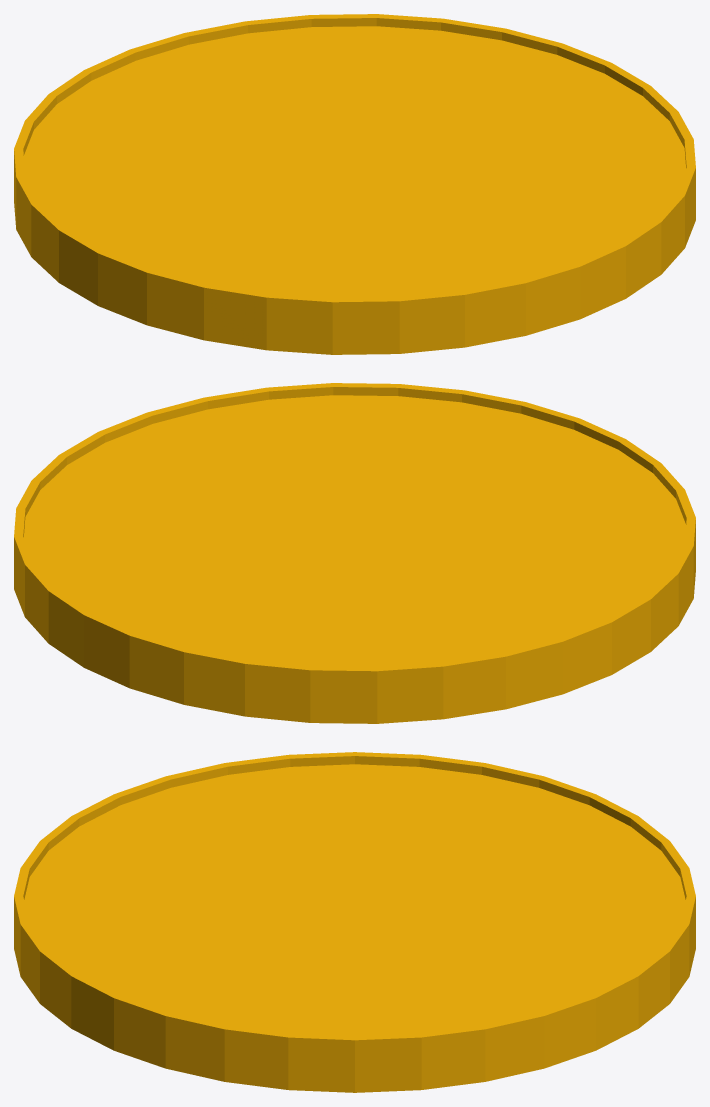
The model's file is GoldCoin.fbx.
3 renders of one model, top to bottom at view 1: azimuth 30°, elevation 25°; view 2: azimuth 150°, elevation 25°; view 3: azimuth 270°, elevation 25°, orthographic.
Parts seen in each view (by area): view 1: Circle; view 2: Circle; view 3: Circle.
Part boxes in pixels (x1,y1,x2,y2): Circle: (14, 14, 695, 354); Circle: (14, 383, 695, 723); Circle: (14, 752, 695, 1092).
Size of the model in its own units: 100 by 8.51 by 100.
